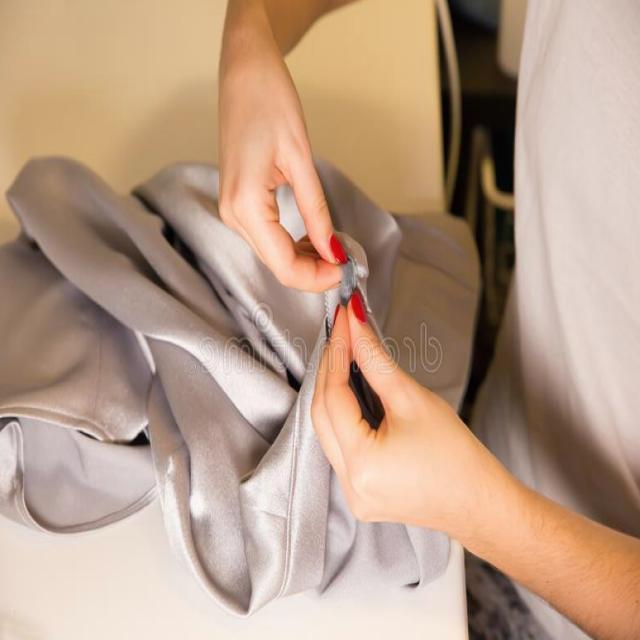clothes: (0, 184, 191, 546), (493, 0, 640, 450), (169, 326, 328, 594), (332, 202, 466, 355)
